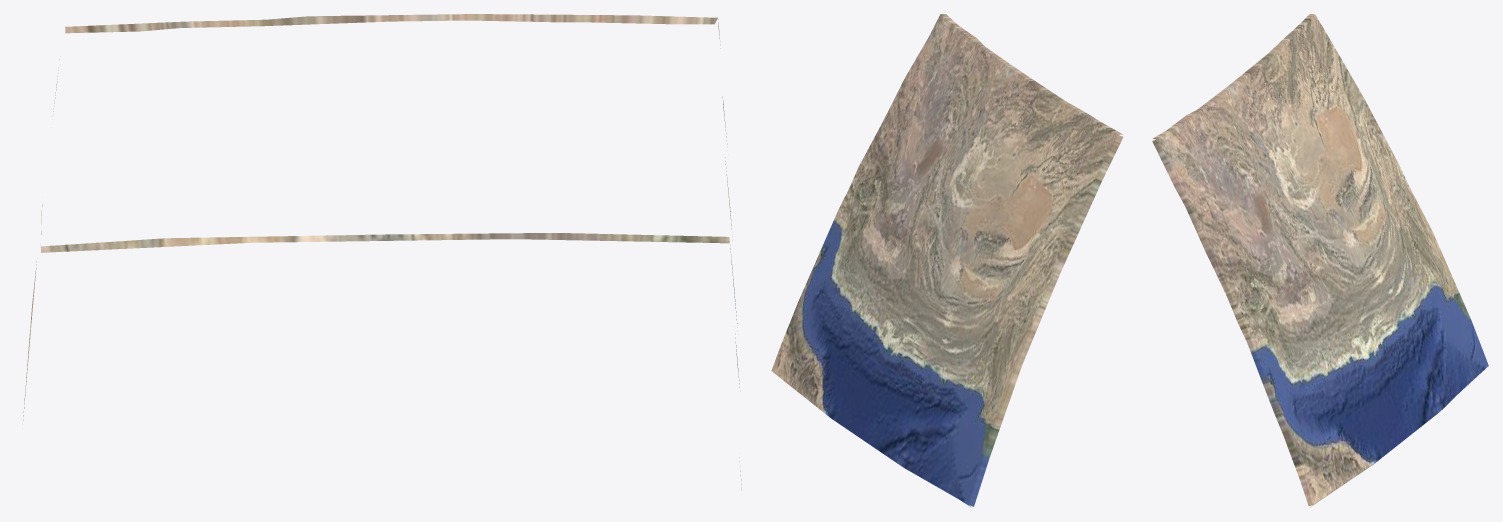
3 views of the same model, side by side, from view 1: azimuth 30°, elevation 25°; view 2: azimuth 150°, elevation 25°; view 3: azimuth 270°, elevation 25° (orthographic). The views are drawn at different scales.
Bounding box in the file's own units: 1261443 × 1117036 × 1048465.
Materials: 1 (1 with a texture image).
